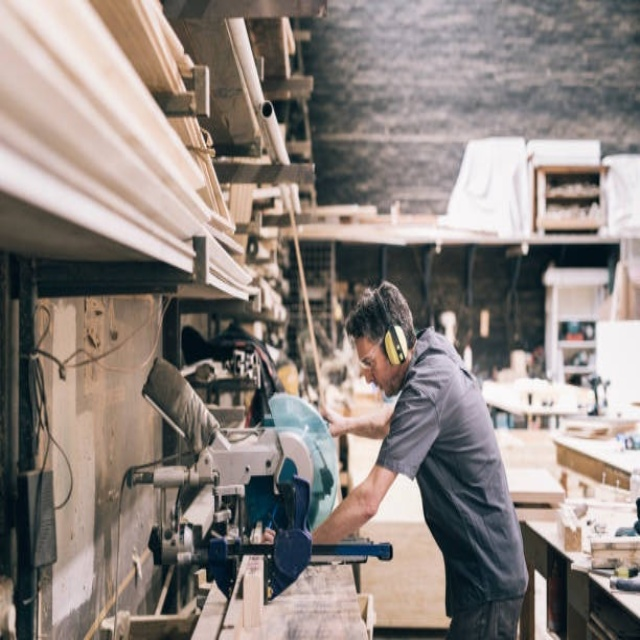Gafas: (355, 336, 384, 372)
Sin_mascara: (368, 375, 394, 395)
